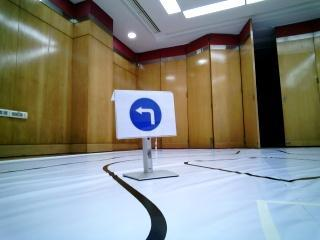left: (120, 92, 174, 134)
